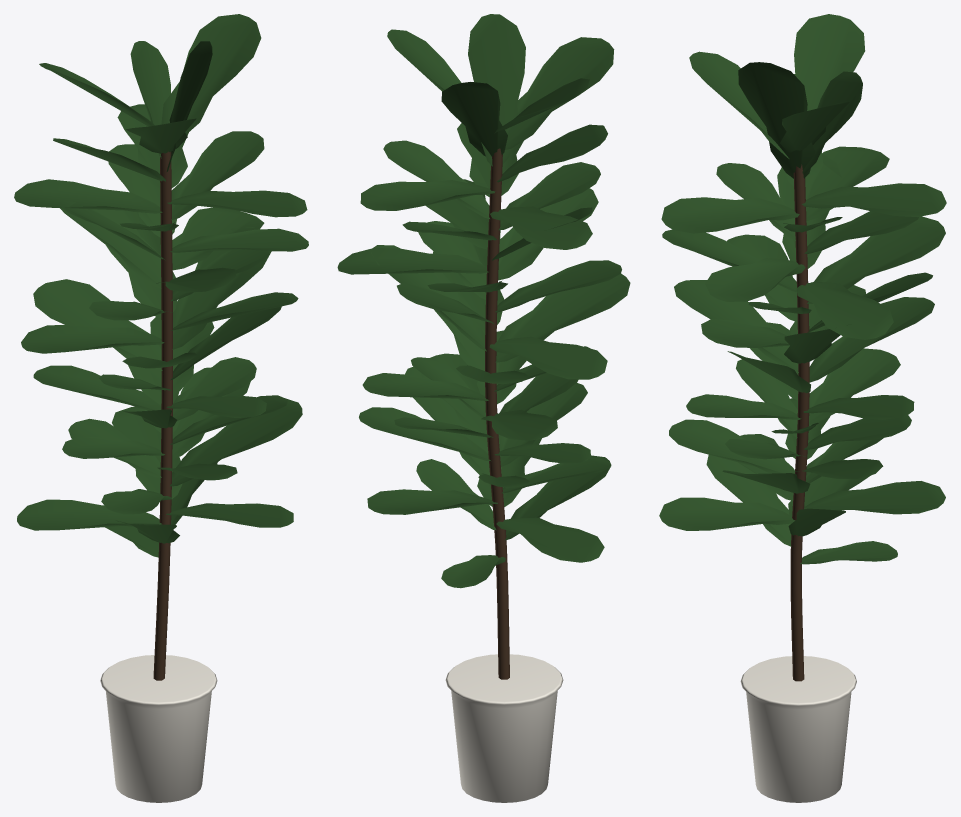
The model's file is fiddle-fig.glb.
3 renders of one model, left to right at view 1: azimuth 30°, elevation 25°; view 2: azimuth 150°, elevation 25°; view 3: azimuth 270°, elevation 25°, orthographic.
Parts seen in each view (by area): view 1: fiddle-fig; view 2: fiddle-fig; view 3: fiddle-fig.
Boxes of the visible parts, box(x1,y1,x2,y2) form: fiddle-fig: box(14, 14, 308, 802); fiddle-fig: box(337, 14, 630, 802); fiddle-fig: box(659, 14, 946, 802).
Bounding box in the file's own units: 2.24 × 6.45 × 2.27.
